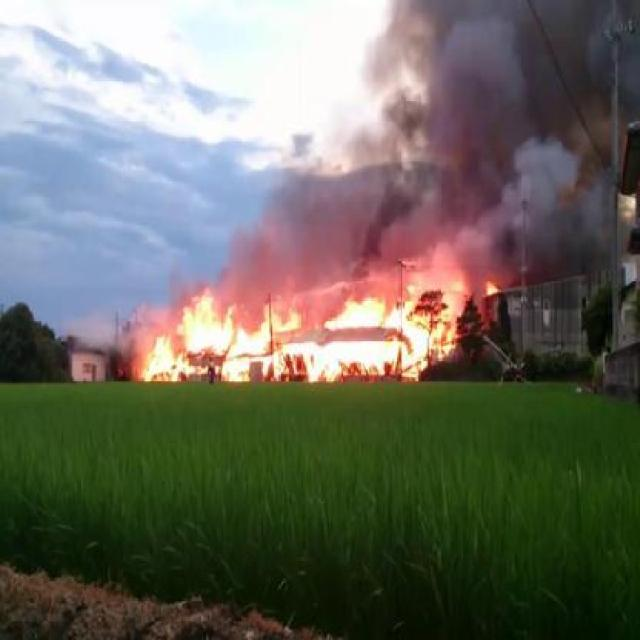Fire: (121, 272, 512, 389)
Smoke: (255, 18, 640, 262)
